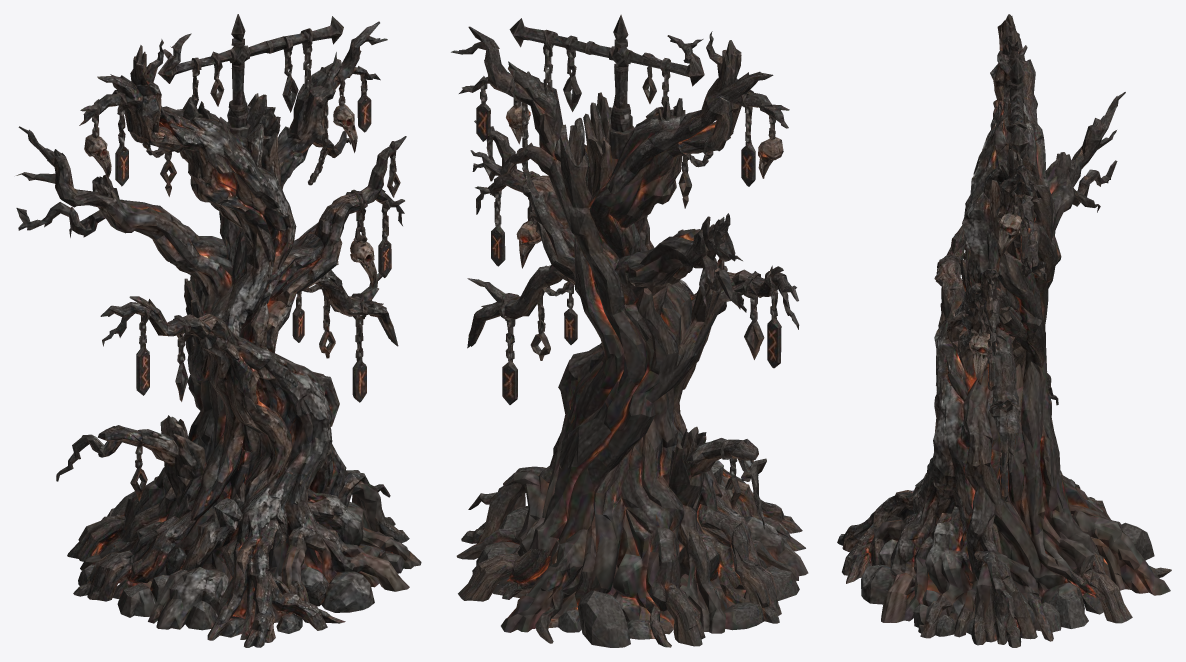
The model's file is TreeAsh.fbx.
The picture shows the model from 3 angles, left to right: view 1: azimuth 30°, elevation 25°; view 2: azimuth 150°, elevation 25°; view 3: azimuth 270°, elevation 25°; orthographic projection. The views are drawn at different scales.
Parts seen in each view (by area): view 1: output_unwrapped; view 2: output_unwrapped; view 3: output_unwrapped.
Boxes of the visible parts, bbox=[...] form: output_unwrapped: bbox=[16, 14, 421, 647]; output_unwrapped: bbox=[451, 14, 808, 647]; output_unwrapped: bbox=[837, 14, 1171, 647].
Bounding box in the file's own units: 119 × 190 × 111.
Materials: 1 (1 with a texture image).
